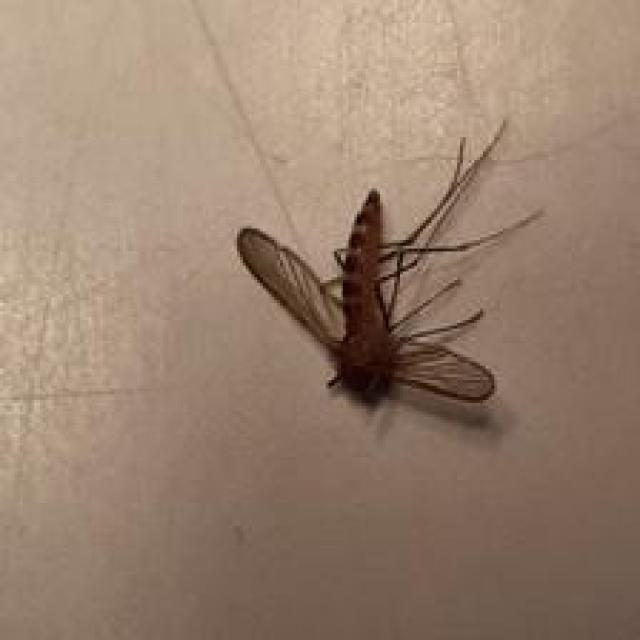Culex: (234, 117, 546, 414)
